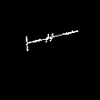treble_crochet: (26, 31, 77, 50)
